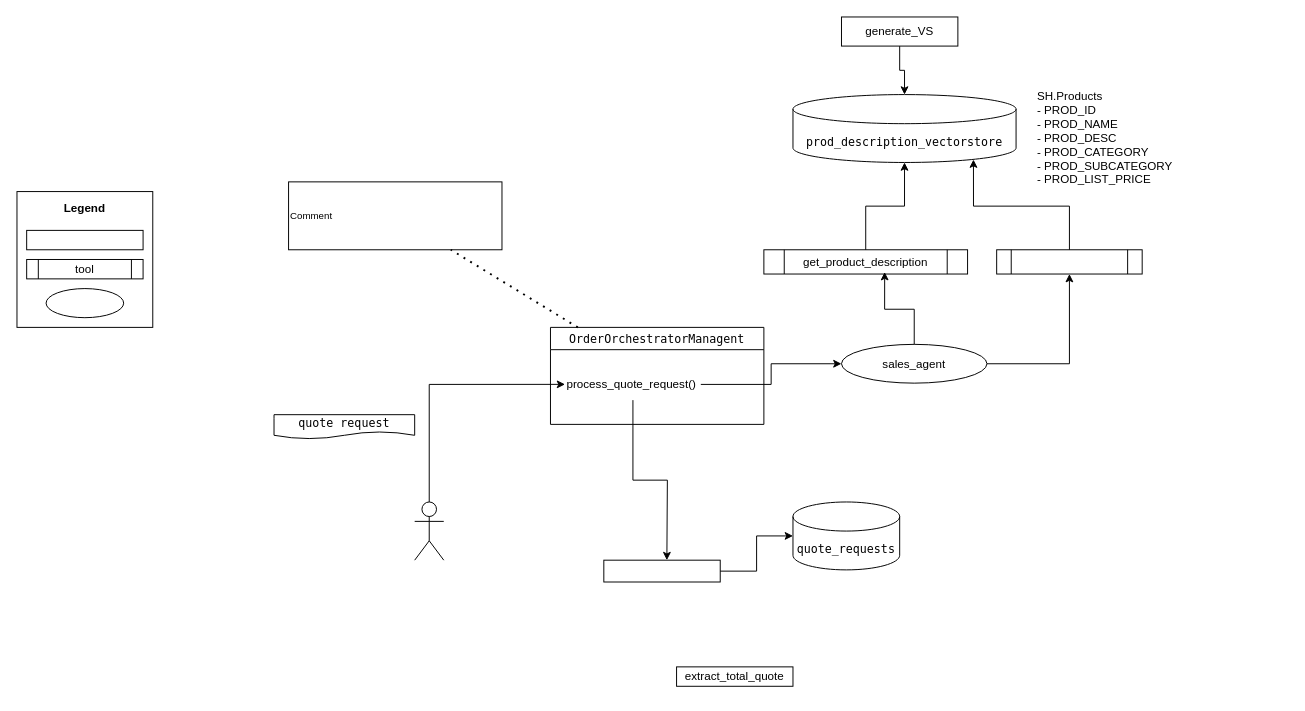
This 1305x711 diagram has some shape labels left out. The centre of each missing label's shape, as x and y in pixels:
agent: the point at 84,303
customer: the point at 429,530
generate_order_id: the point at 661,570
get_prices: the point at 1069,261
helper function: the point at 84,239
